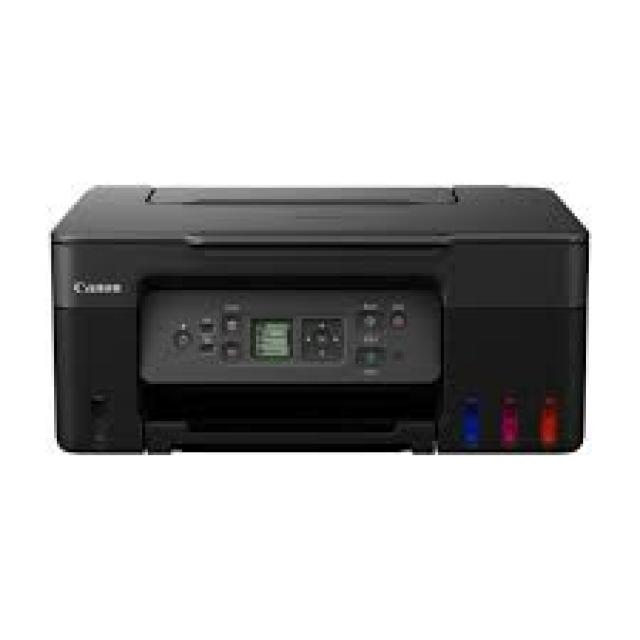printer: (22, 170, 610, 500)
